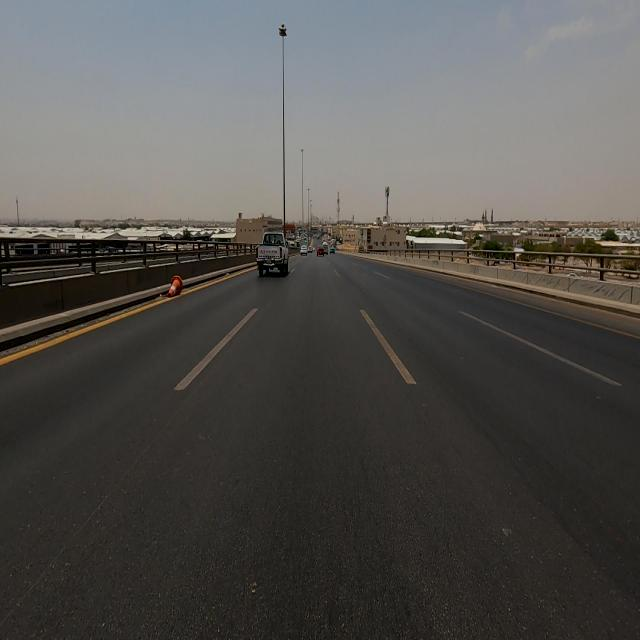debris: (147, 237, 201, 339)
